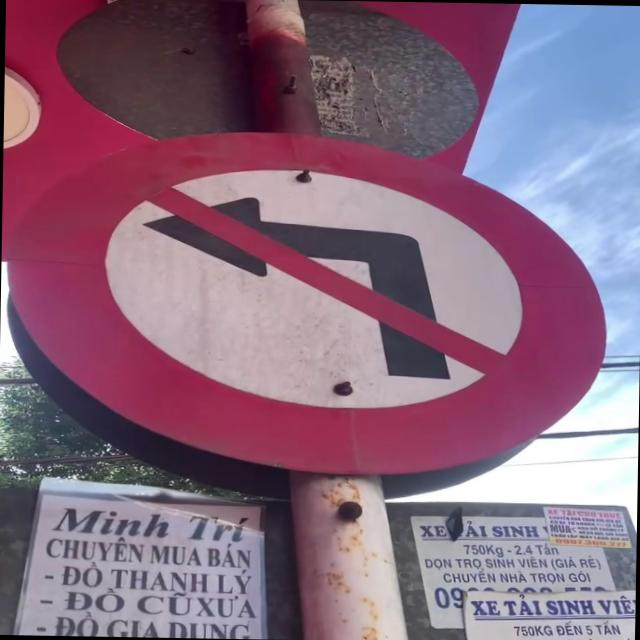Cam_Re_Trai: (2, 128, 609, 482)
